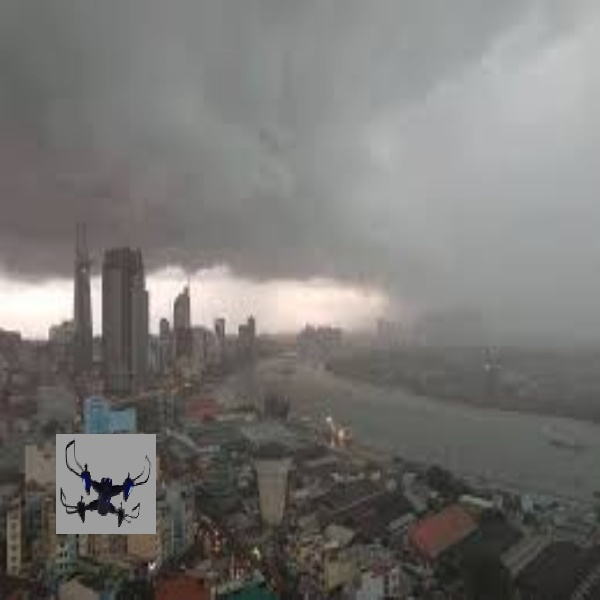drone: (56, 433, 156, 531)
